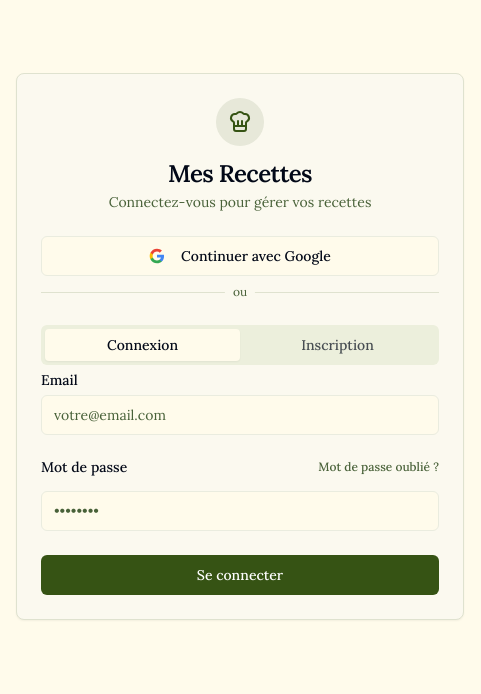
Auth — affichage des erreurs › affiche un message quand l'inscription échoue (compte existant)
Click the tab "Inscription". click: (338,344)
box: x1=240 y1=328 x2=435 y2=360
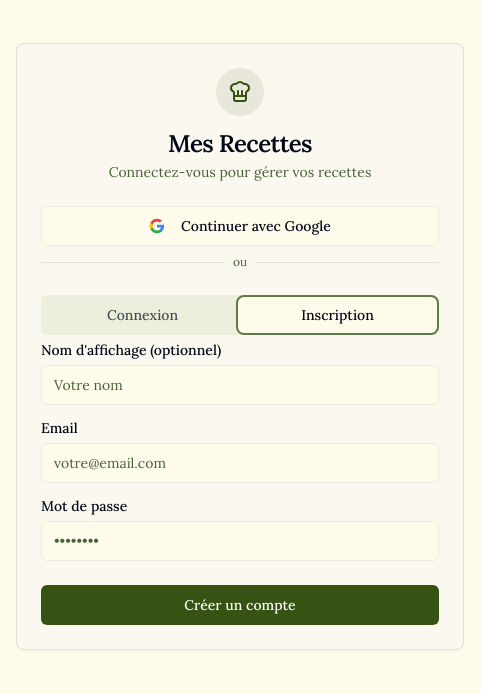
Type "test@example.com" into the field labelled "Email". click: (240,462)
box: x1=41 y1=442 x2=439 y2=482
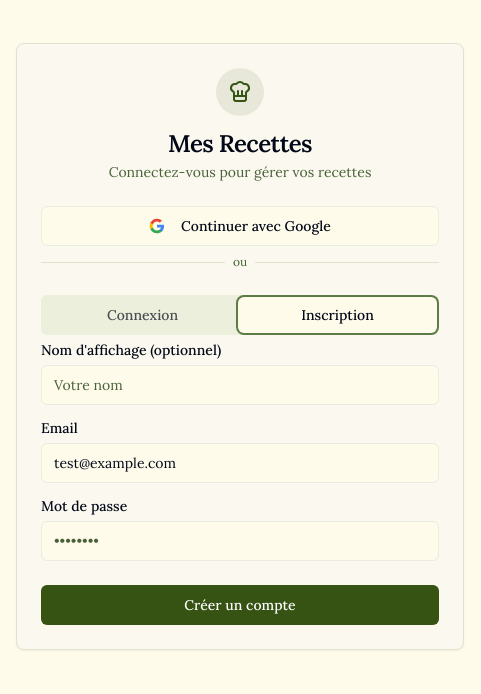
Type "password123" into the password field labelled "Mot de passe". click: (240,540)
box: x1=41 y1=520 x2=439 y2=560
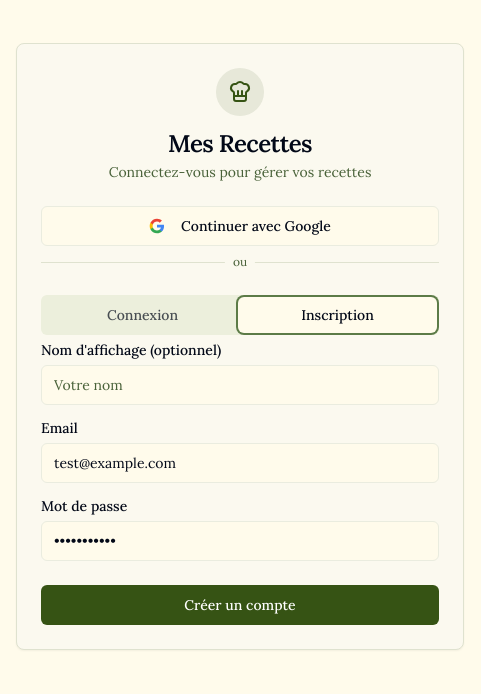
Click the button "Créer un compte". click: (240,604)
box: x1=41 y1=584 x2=439 y2=624
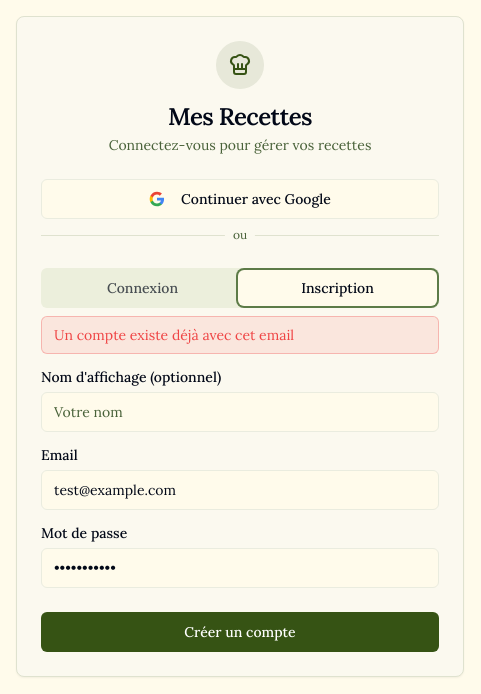
Expected: the text "Un compte existe déjà avec cet email" is shown, x1=41 y1=316 x2=439 y2=354
